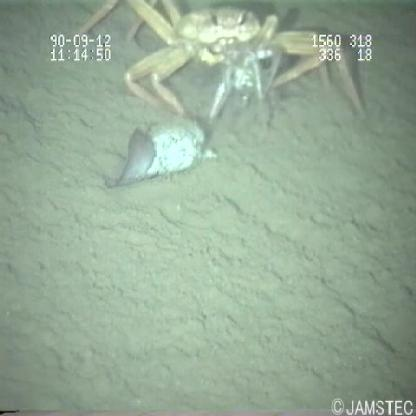Bio: (75, 1, 364, 192)
